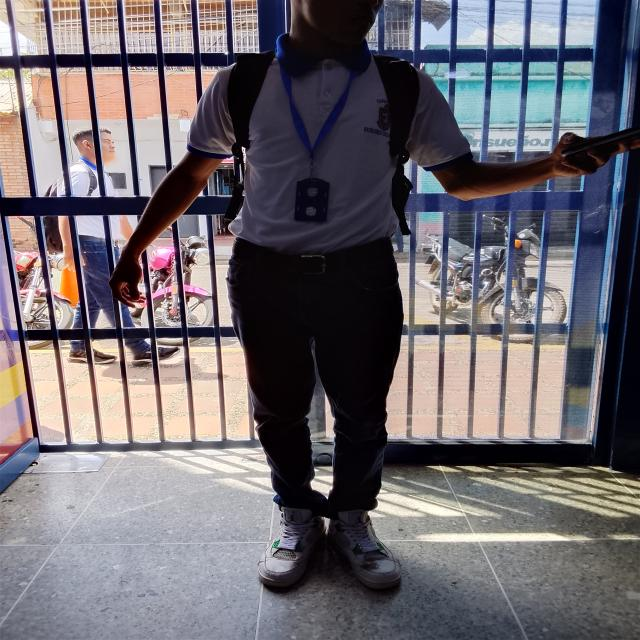carnet: (295, 178, 330, 224)
pantalon_oscuro: (68, 240, 152, 356)
uniforme_superior: (186, 33, 474, 251), (58, 156, 121, 239)
